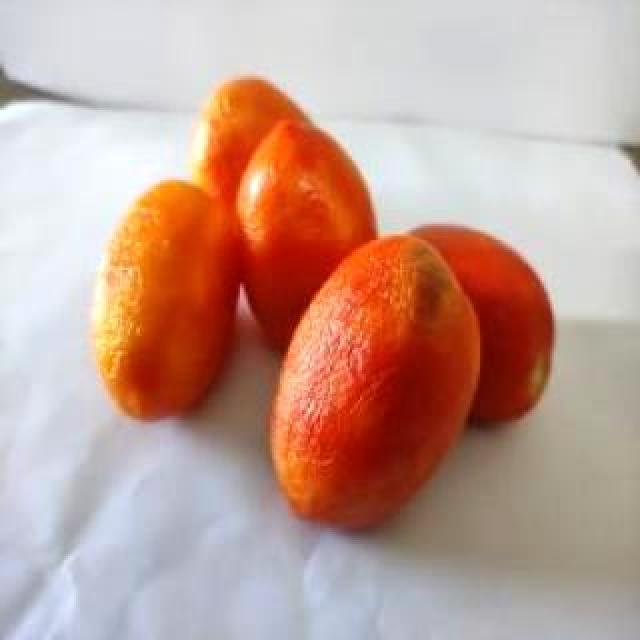Rotten_Tomato: (268, 228, 490, 556), (374, 214, 568, 434), (90, 170, 248, 426), (228, 106, 386, 360), (186, 68, 318, 242)
